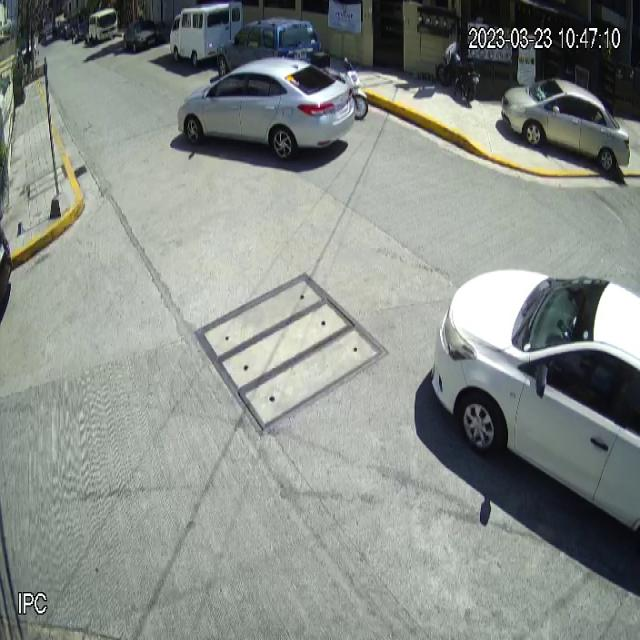Car: (432, 268, 640, 535), (177, 57, 355, 162), (501, 76, 630, 170)
Van: (169, 0, 244, 69)
